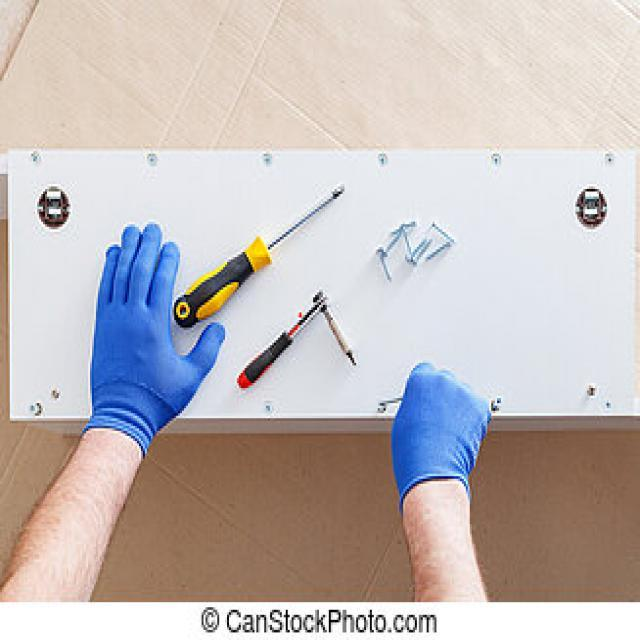screwdriver: (170, 180, 348, 329)
